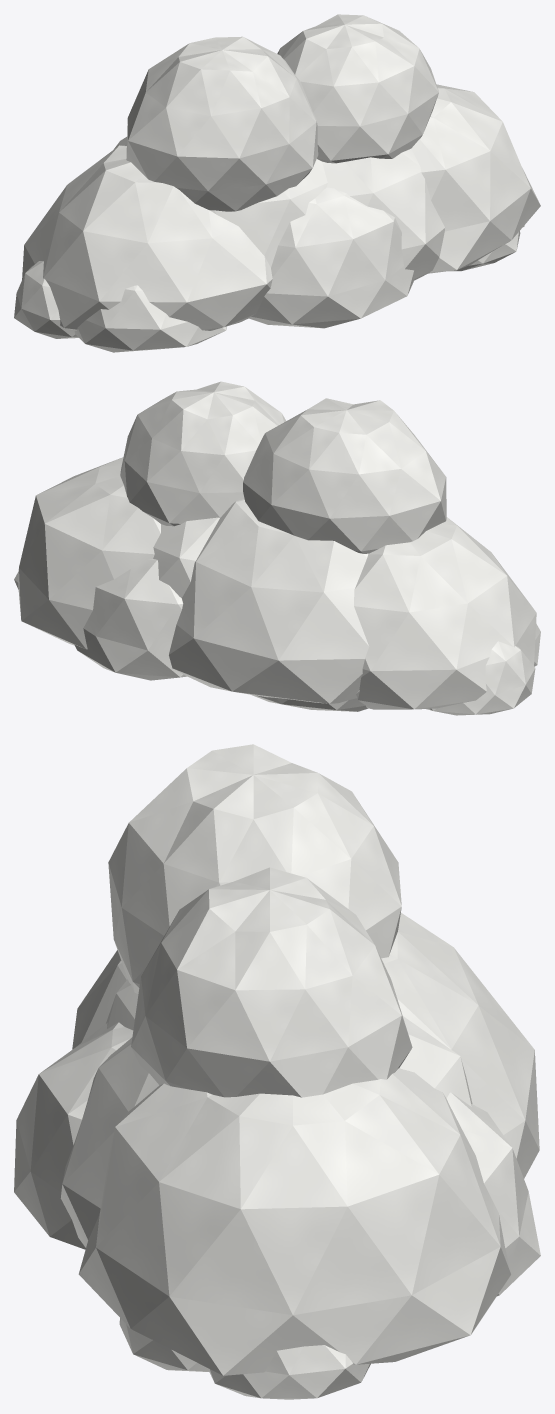
Rendered from cloud_cumulus.obj.
3 renders of one model, top to bottom at view 1: azimuth 30°, elevation 25°; view 2: azimuth 150°, elevation 25°; view 3: azimuth 270°, elevation 25°, orthographic. The views are drawn at different scales.
Visible parts, largest first — view 1: cloud_cumulus; view 2: cloud_cumulus; view 3: cloud_cumulus.
Boxes of the visible parts, x1,y1,x2,y2 form: cloud_cumulus: [14, 14, 540, 352]; cloud_cumulus: [14, 381, 540, 715]; cloud_cumulus: [14, 744, 540, 1399].
Size of the model in its own units: 15.79 by 7.53 by 9.01.
Materials: 1 (1 with a texture image).
